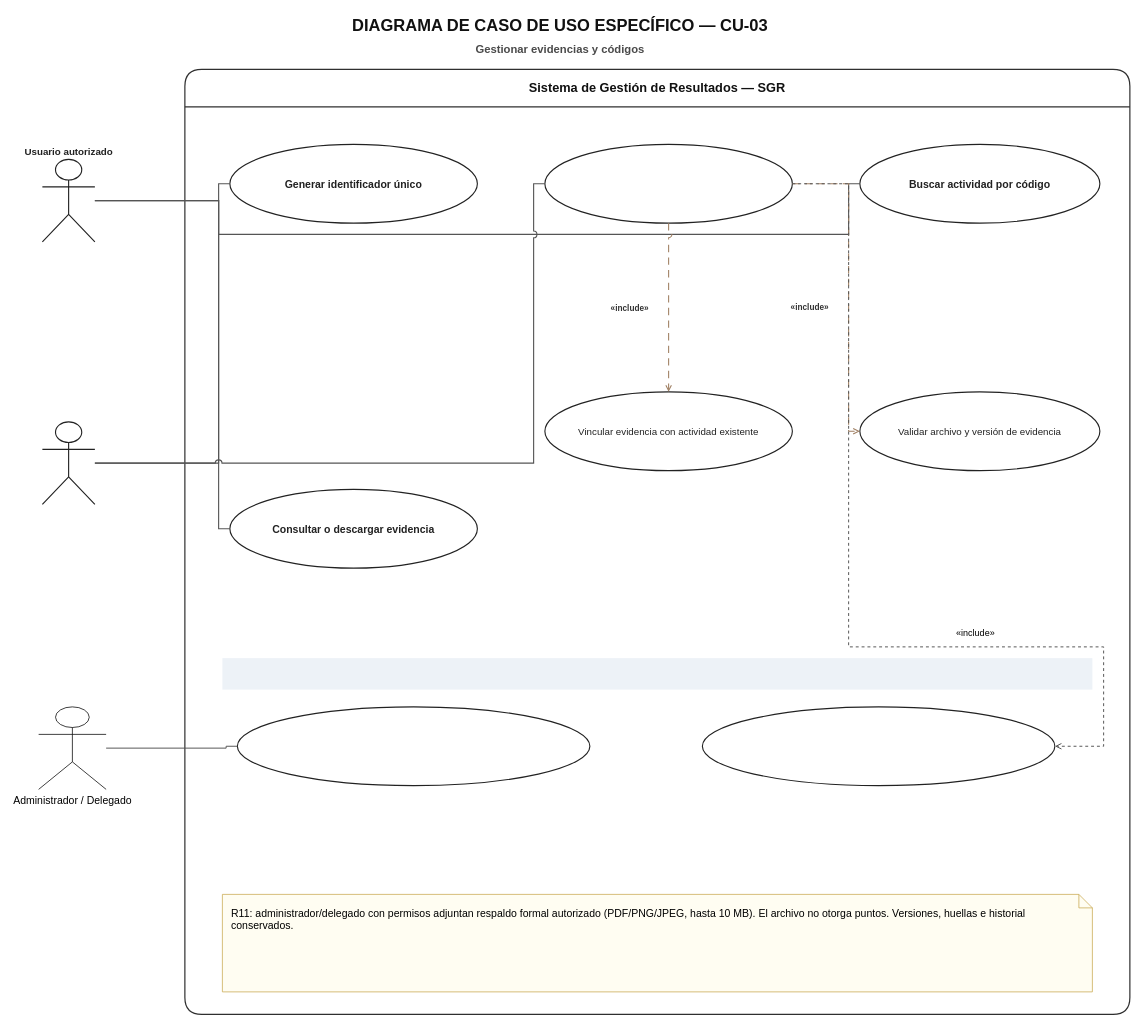
Some shapes in this 1143 by 1028 pixel diagram are drawn without their labels. The shapes that lost their labels are listed below. From the top down, each one's box as (x1, y1, x2, y2) in pixels, then its label:
(544, 143, 793, 223): Adjuntar evidencia
(41, 421, 95, 505): Funcionario
(222, 658, 1092, 689): Ampliación del caso · implementación contrastada 23/10/2026
(236, 706, 590, 786): Adjuntar respaldo formal de felicitación
(701, 706, 1055, 786): Conservar versiones y observaciones del respaldo
